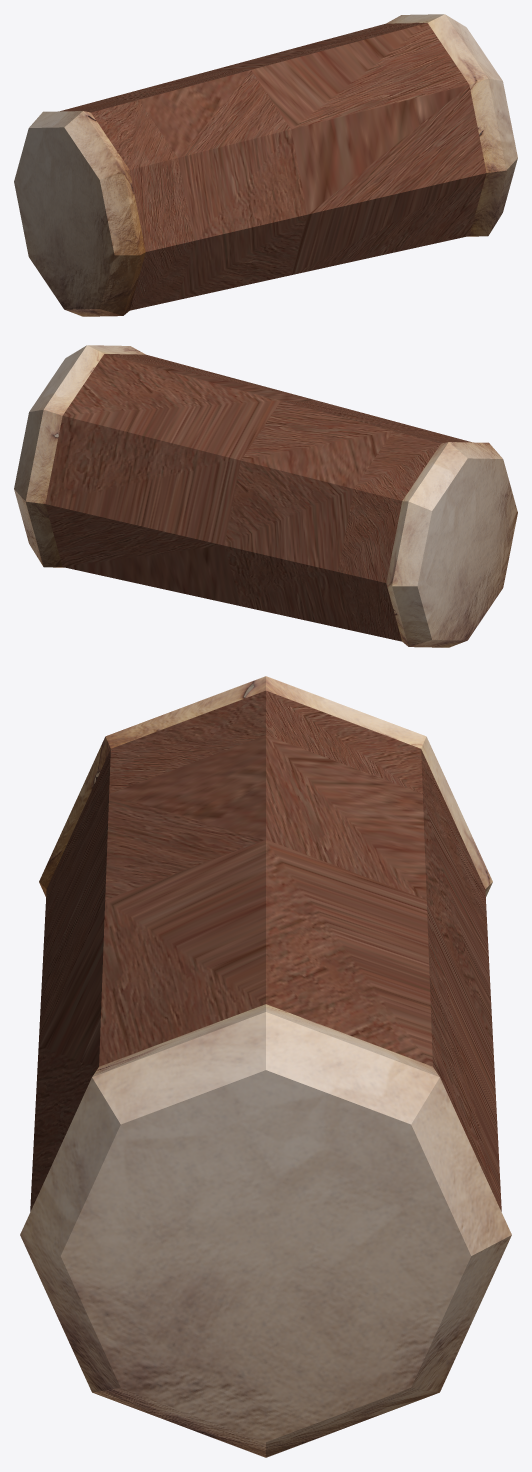
Rendered from Gendang.fbx.
3 views of the same model, one above another, from view 1: azimuth 30°, elevation 25°; view 2: azimuth 150°, elevation 25°; view 3: azimuth 270°, elevation 25° (orthographic). The views are drawn at different scales.
Visible parts, largest first — view 1: Gendang; view 2: Gendang; view 3: Gendang.
Part boxes in pixels (x1,y1,x2,y2): Gendang: (14,14,517,316); Gendang: (14,345,517,647); Gendang: (20,676,511,1457).
Size of the model in its own units: 142 by 75.19 by 75.19.
Materials: 1 (1 with a texture image).
